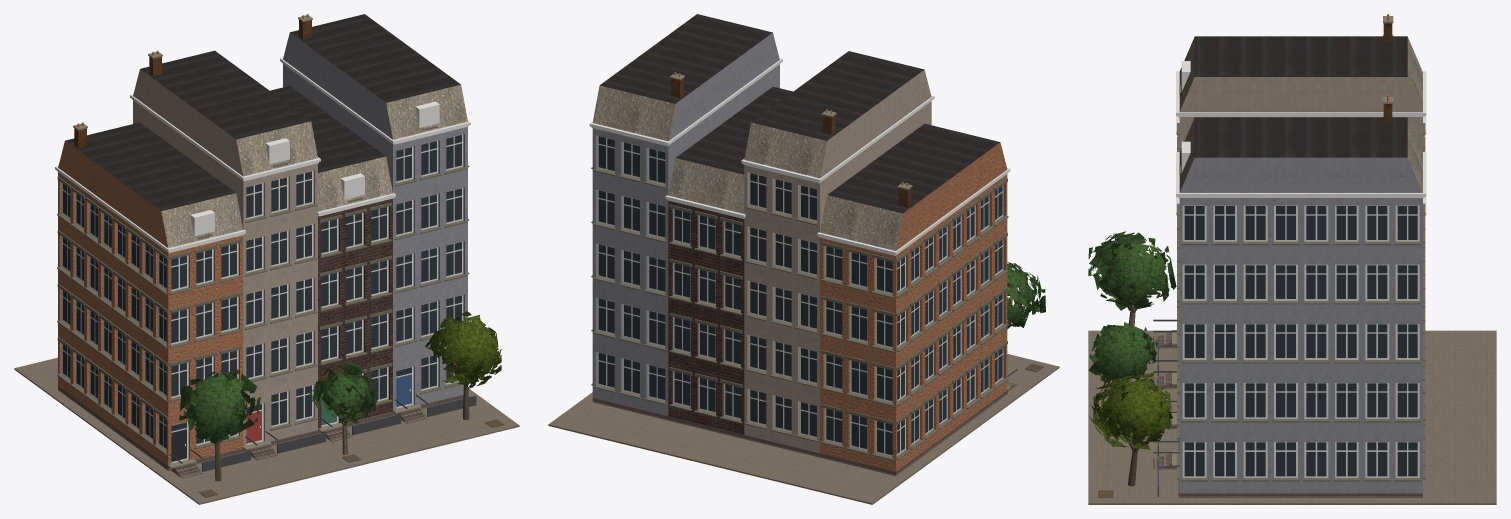
The model's file is townhouse_row.glb.
3 views of the same model, side by side, from view 1: azimuth 30°, elevation 25°; view 2: azimuth 150°, elevation 25°; view 3: azimuth 270°, elevation 25° (orthographic). The views are drawn at different scales.
Parts seen in each view (by area): view 1: townhouse_row_body, townhouse_row_foliage; view 2: townhouse_row_body, townhouse_row_foliage; view 3: townhouse_row_body, townhouse_row_foliage.
Boxes of the visible parts, bbox=[...] form: townhouse_row_body: bbox=[14, 14, 519, 504]; townhouse_row_foliage: bbox=[179, 311, 501, 443]; townhouse_row_body: bbox=[548, 14, 1059, 504]; townhouse_row_foliage: bbox=[1007, 262, 1045, 329]; townhouse_row_body: bbox=[1088, 14, 1496, 504]; townhouse_row_foliage: bbox=[1088, 231, 1176, 449].
Size of the model in its own units: 0.94 by 0.93 by 0.94.
Materials: 27 (16 with a texture image).
